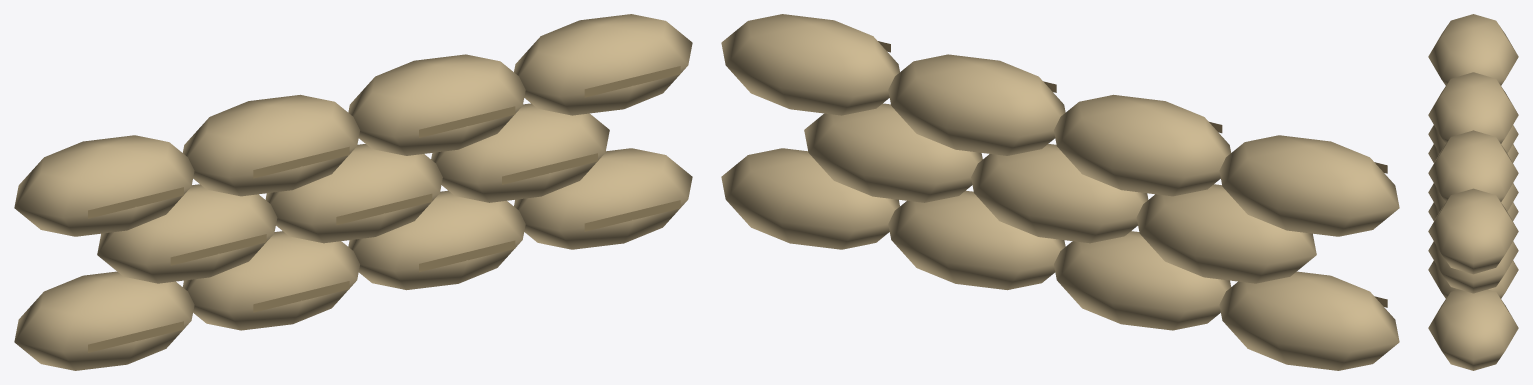
The model's file is monatium_sandbags.glb.
3 renders of one model, left to right at view 1: azimuth 30°, elevation 25°; view 2: azimuth 150°, elevation 25°; view 3: azimuth 270°, elevation 25°, orthographic. The views are drawn at different scales.
Parts seen in each view (by area): view 1: monatium_sandbags_sand, monatium_sandbags_sand_d_fine; view 2: monatium_sandbags_sand; view 3: monatium_sandbags_sand.
Part boxes in pixels (bbox=[...]): monatium_sandbags_sand: bbox=[14, 14, 692, 370]; monatium_sandbags_sand_d_fine: bbox=[88, 66, 680, 352]; monatium_sandbags_sand: bbox=[721, 14, 1399, 370]; monatium_sandbags_sand: bbox=[1428, 14, 1518, 370].
Bounding box in the file's own units: 2.54 × 0.7656 × 0.408.
